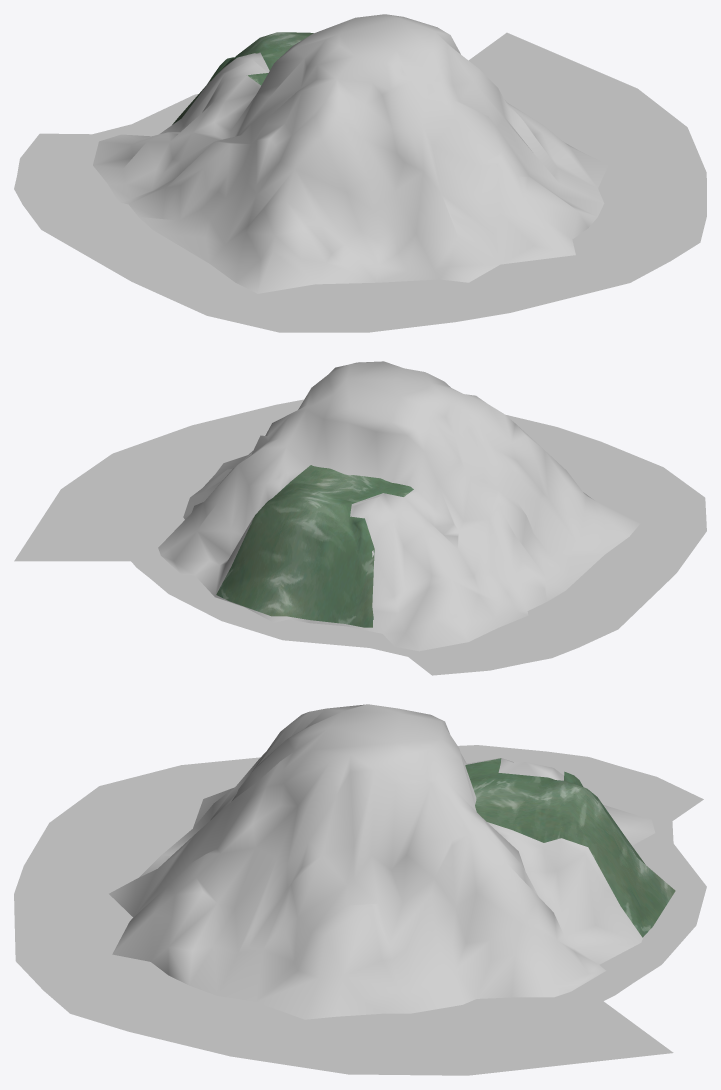
File: build_mountain_G.FBX
The picture shows the model from 3 angles, top to bottom: view 1: azimuth 30°, elevation 25°; view 2: azimuth 150°, elevation 25°; view 3: azimuth 270°, elevation 25°; orthographic projection. The views are drawn at different scales.
Parts seen in each view (by area): view 1: build_mountain_G, build_mountain_G_edge, build_mountain_G_water; view 2: build_mountain_G, build_mountain_G_edge, build_mountain_G_water; view 3: build_mountain_G, build_mountain_G_edge, build_mountain_G_water.
Part boxes in pixels (left/top/right/bottom): build_mountain_G: left=93, top=14, right=608, bottom=293; build_mountain_G_edge: left=14, top=32, right=706, bottom=332; build_mountain_G_water: left=172, top=32, right=313, bottom=124; build_mountain_G: left=158, top=361, right=639, bottom=651; build_mountain_G_edge: left=14, top=399, right=706, bottom=675; build_mountain_G_water: left=216, top=465, right=413, bottom=627; build_mountain_G: left=109, top=704, right=655, bottom=1019; build_mountain_G_edge: left=14, top=745, right=706, bottom=1075; build_mountain_G_water: left=465, top=758, right=675, bottom=937.
Size of what is drawn, in the model's own units: 1549 by 398 by 1371.
